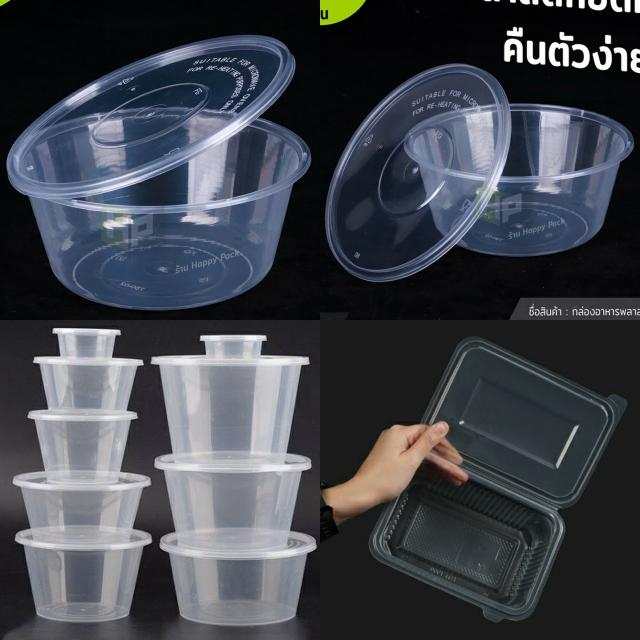Single-Use-Plastic: (370, 338, 626, 621), (8, 106, 310, 309), (6, 35, 294, 199), (326, 64, 510, 281), (460, 104, 634, 256), (151, 336, 309, 461), (155, 454, 311, 550), (160, 531, 316, 625), (16, 530, 150, 622), (12, 471, 151, 544), (34, 328, 144, 411), (29, 410, 136, 483), (52, 328, 121, 358), (200, 335, 266, 358)
